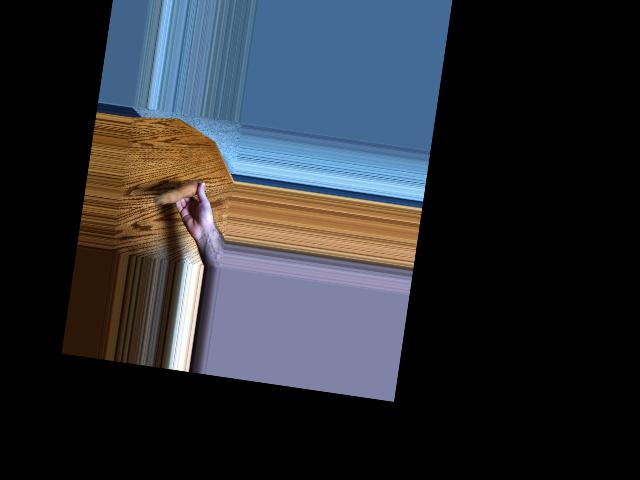sweet_potato: (151, 173, 207, 215)
